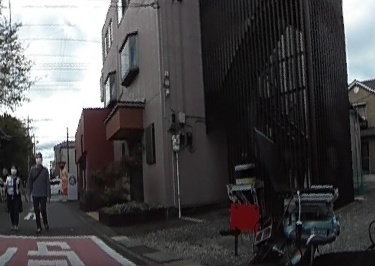person: (357, 76, 375, 266), (28, 153, 51, 229), (4, 163, 24, 226)
